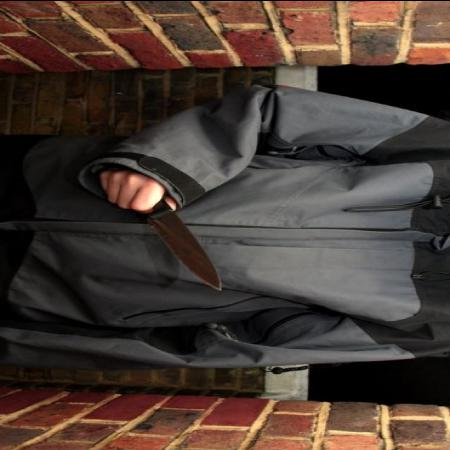long weapon: (99, 169, 236, 297)
